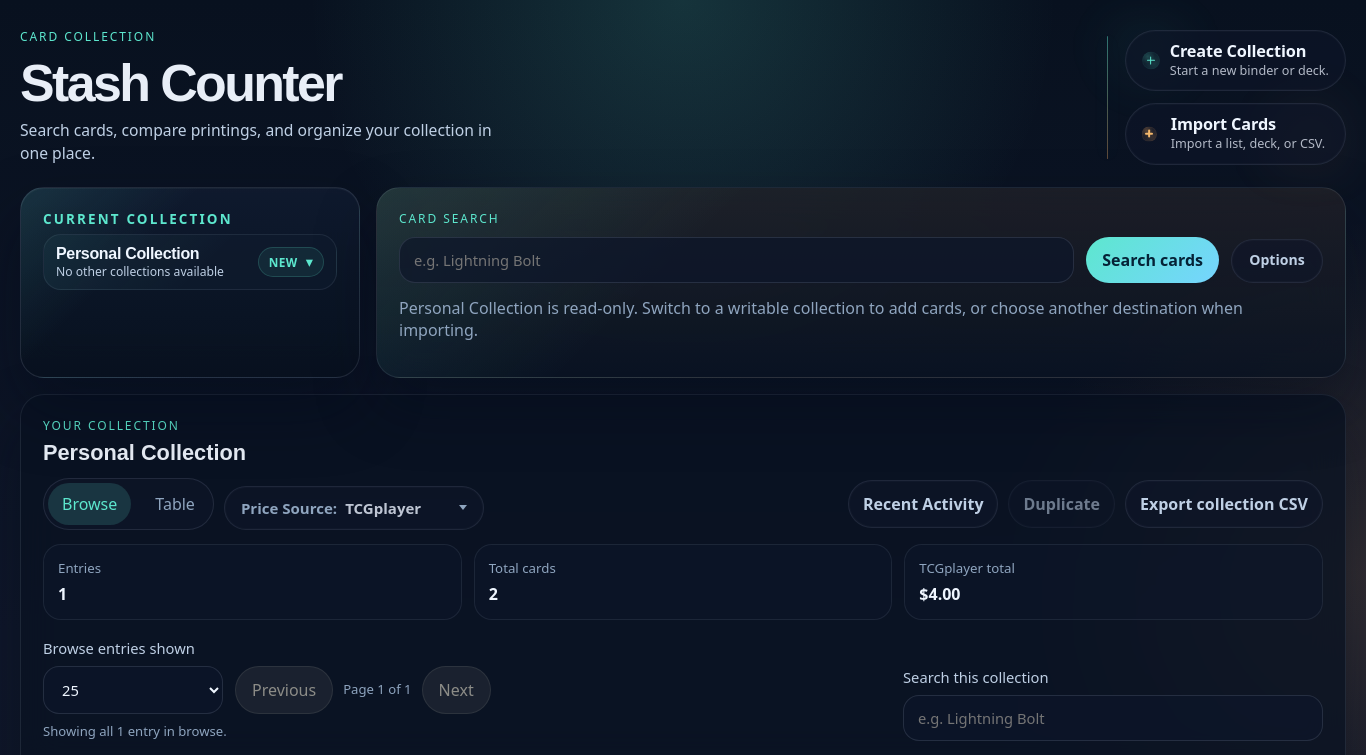
it: App › exports readable viewer collections without requiring write access
Click the button "Export collection CSV".
click(1224, 504)  # box top-left (1125, 480), bottom-right (1323, 528)
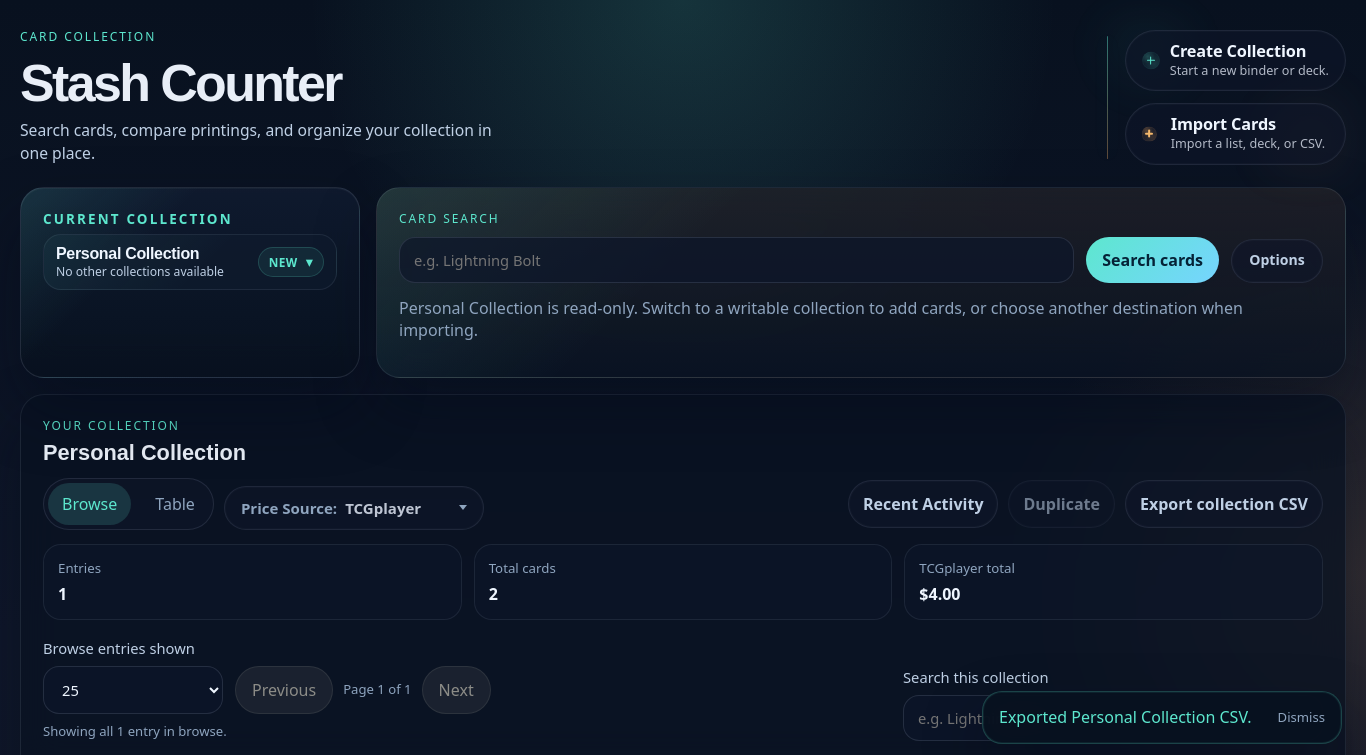
Now the message shows "Exported Personal Collection CSV.", box top-left (999, 706), bottom-right (1252, 728)
